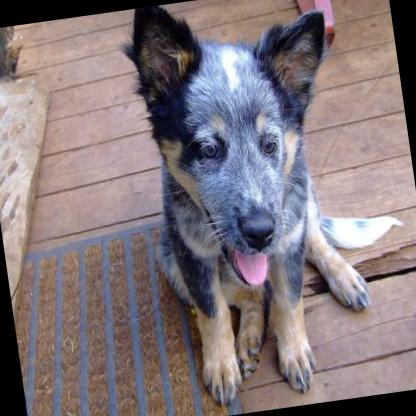kelpie: (116, 0, 384, 416)
